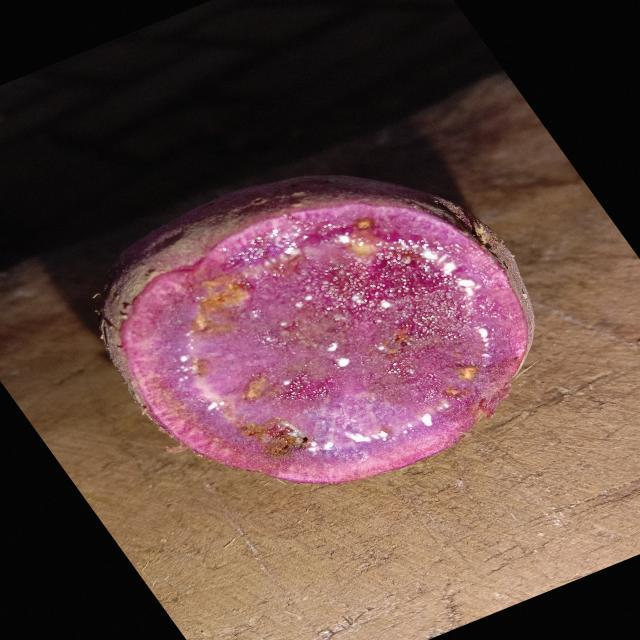Sick Sweet Potato_Tuber Rot: (122, 204, 528, 482)
